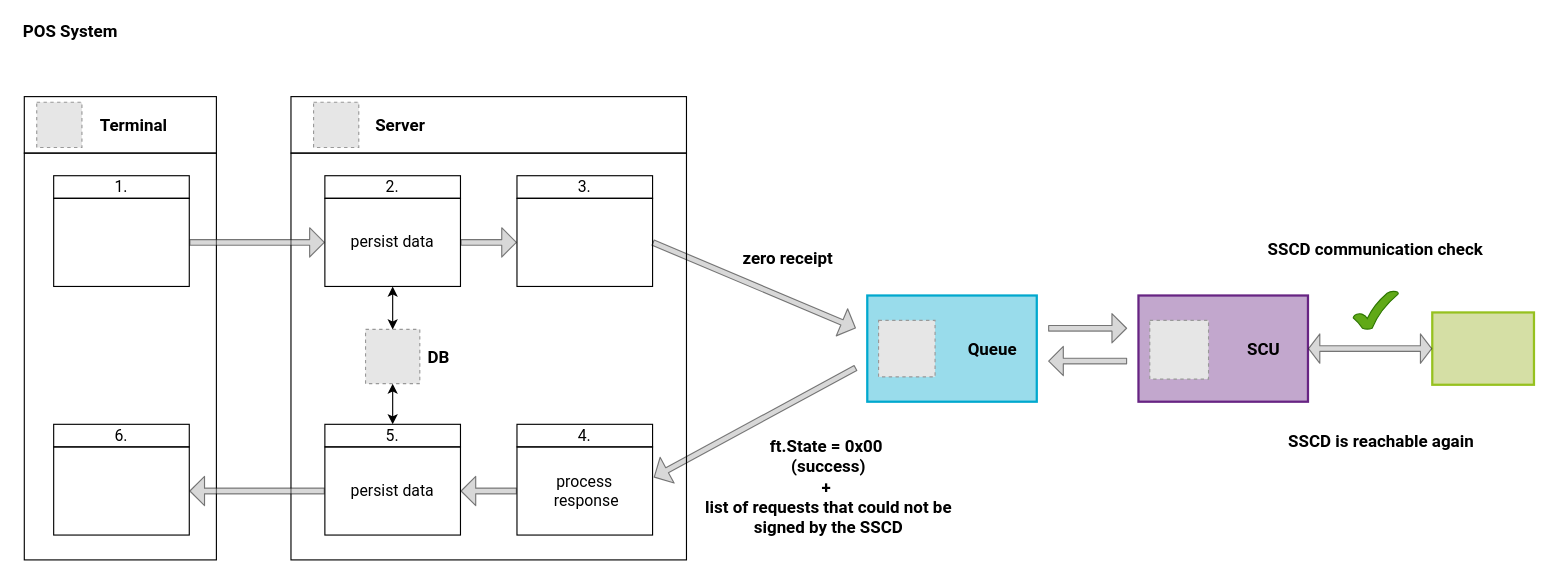
Image size: 1554x580. Some labels were removed from this diagram. Grey dashed boxes stand in for pictures. The shapes that lost their labels are listed below. From the top down, each one's box as (x1, y1, x2, y2) in pixels, then its label:
(53, 197, 189, 286): trigger functionality (check SSCD)
(516, 197, 653, 286): send sign request (zero receipt)
(1431, 311, 1535, 385): SSCD
(53, 446, 189, 535): compose and print receipt
